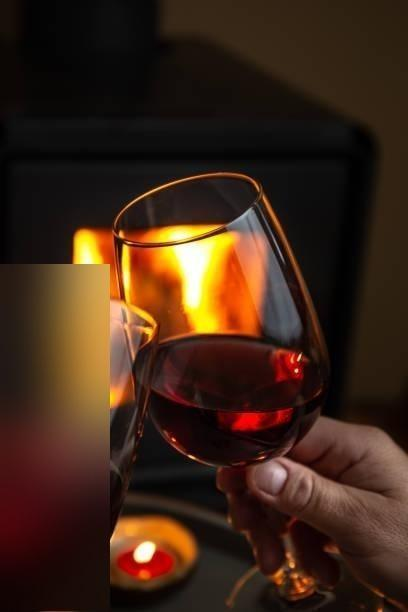glass-wine: (111, 171, 347, 612)
